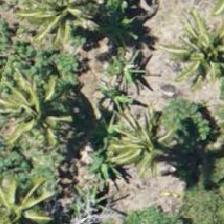coconut_tree: (103, 112, 193, 202), (0, 65, 69, 155), (16, 0, 106, 59), (168, 16, 223, 106), (0, 172, 46, 223)
